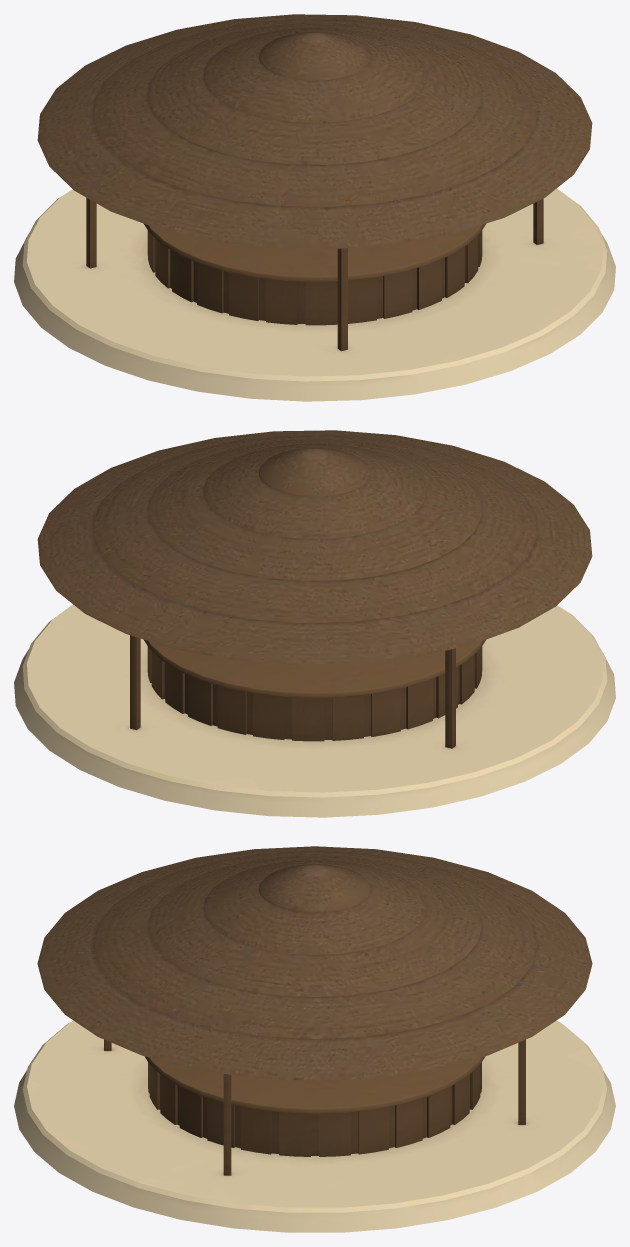
The model's file is island_bar.glb.
3 renders of one model, top to bottom at view 1: azimuth 30°, elevation 25°; view 2: azimuth 150°, elevation 25°; view 3: azimuth 270°, elevation 25°, orthographic.
Parts seen in each view (by area): view 1: island_bar; view 2: island_bar; view 3: island_bar.
Boxes of the visible parts, x1,y1,x2,y2 form: island_bar: (14, 14, 615, 401); island_bar: (14, 430, 615, 817); island_bar: (14, 846, 615, 1232).
Bounding box in the file's own units: 11.65 × 5.05 × 11.7.
1 material, 1 textured.
